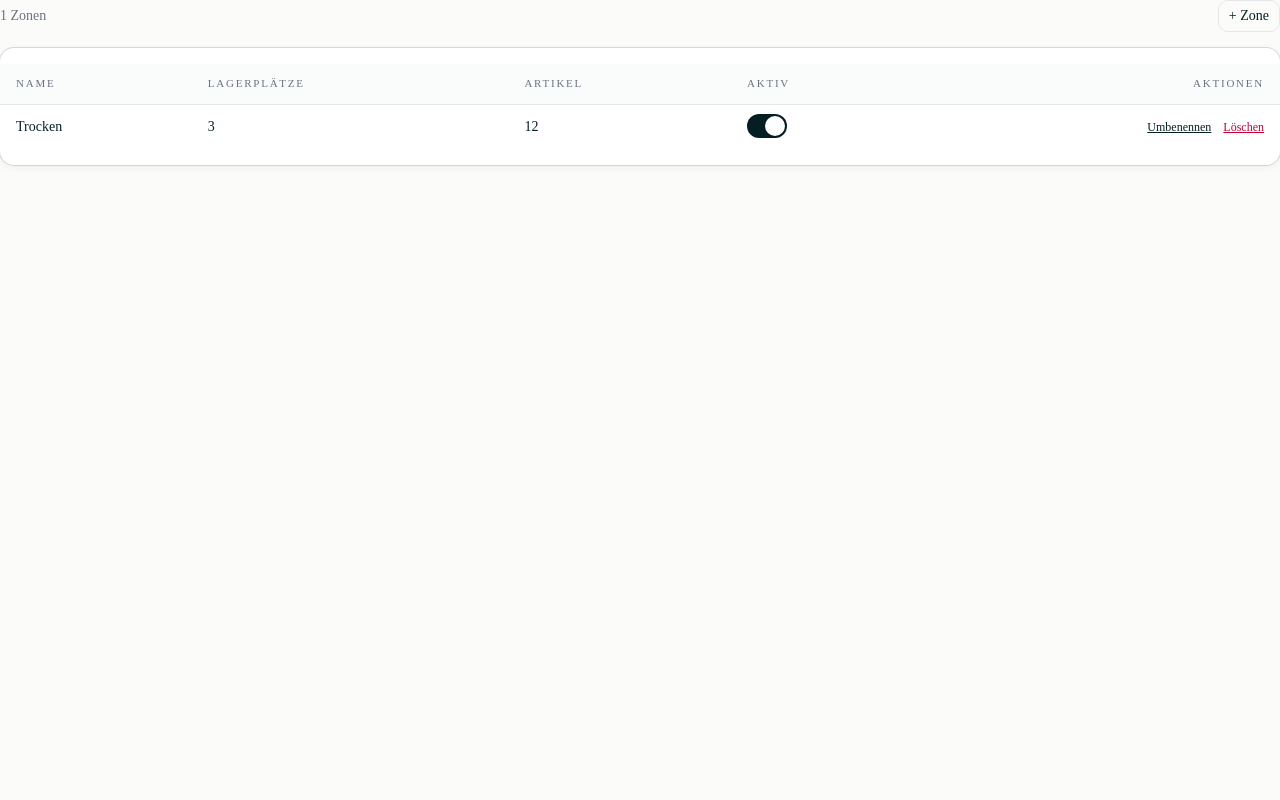
Test: ZonesPanel › 409 beim Löschen zeigt „noch zugeordnet“
The width and height of the screenshot is (1280, 800).
Click the button "Löschen": (1244, 127) [1223,119,1264,135]
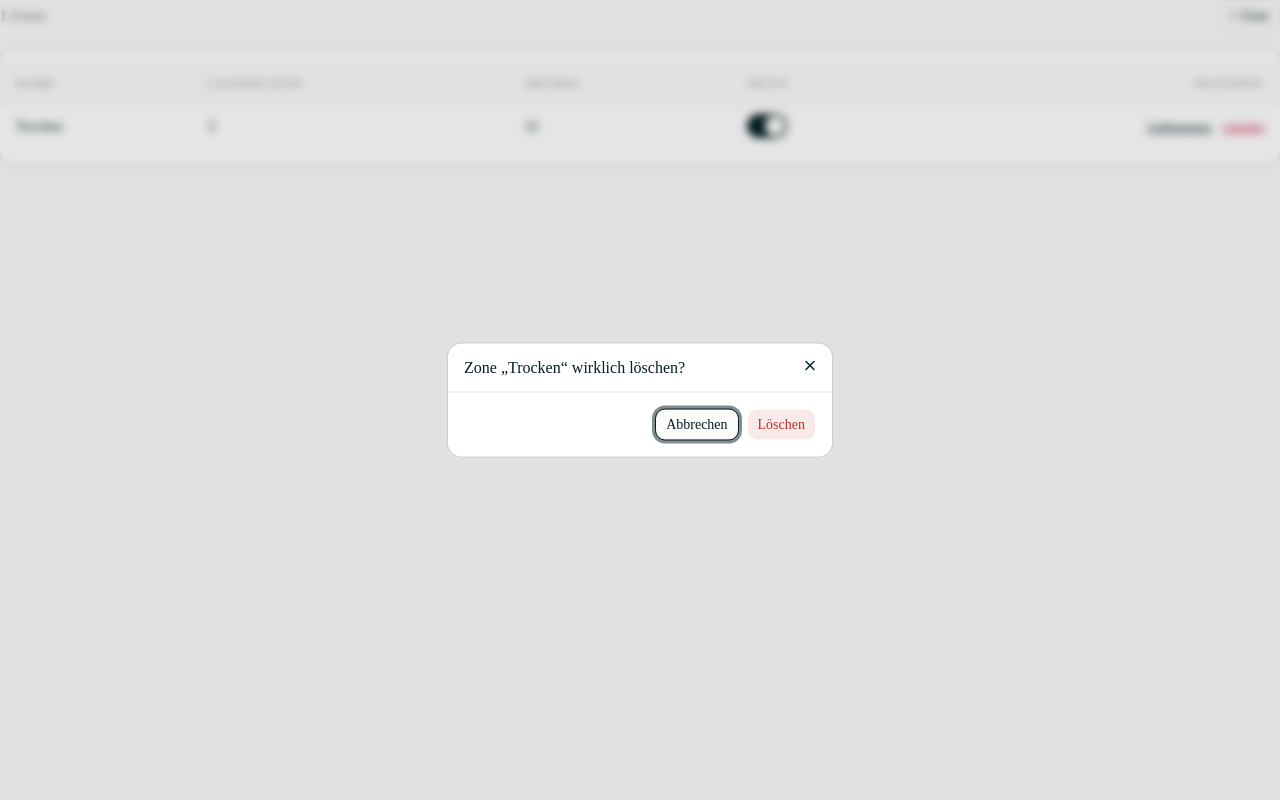
Click the button "Löschen": (781, 424) [747,408,816,440]
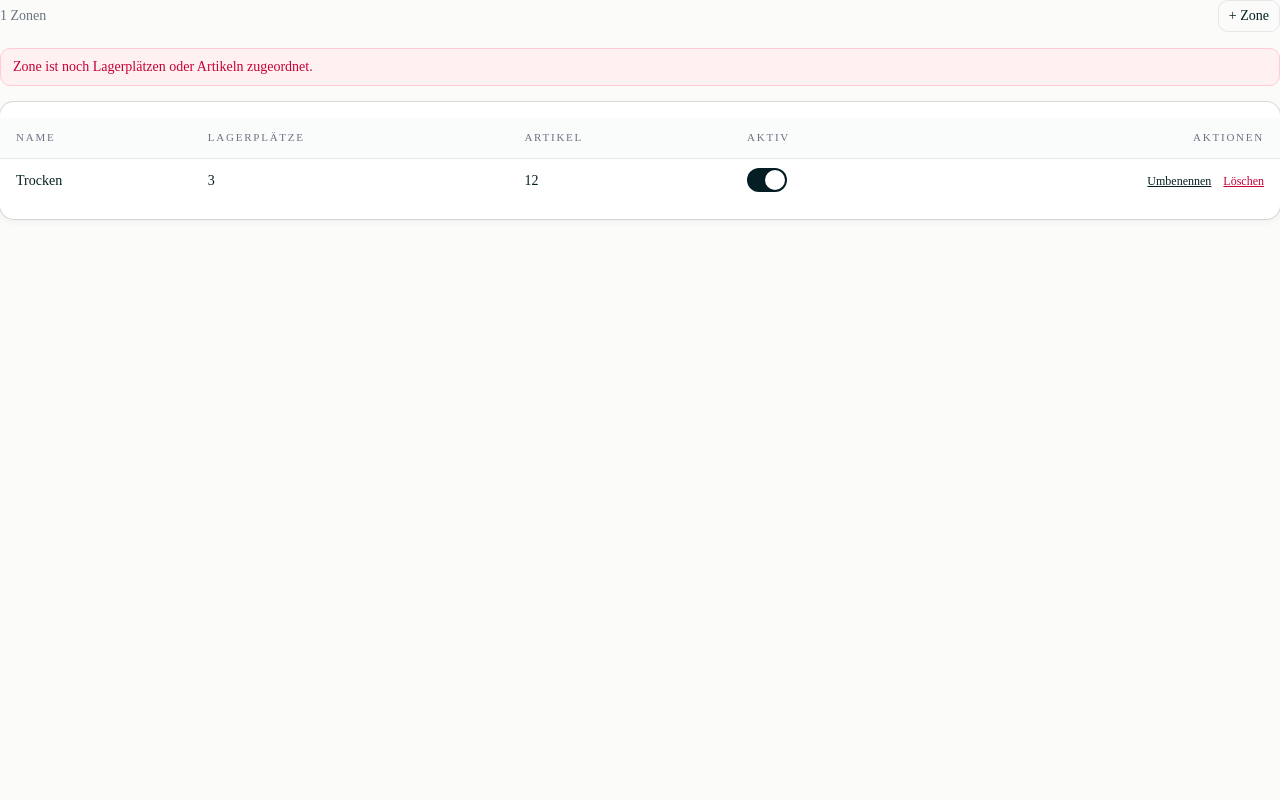
expect the text "Zone ist noch Lagerplätzen oder Artikeln zugeordnet." is shown: met, box [0,48,1279,86]
